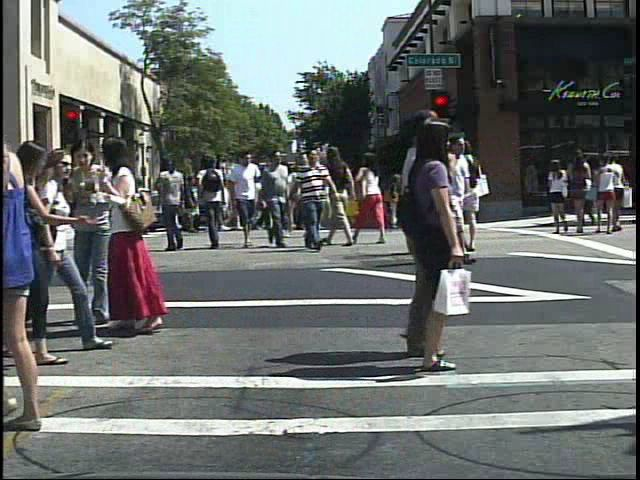person: (363, 115, 489, 381), (0, 87, 60, 438), (102, 133, 197, 343), (38, 141, 114, 353), (405, 104, 457, 365), (67, 134, 112, 337), (431, 128, 484, 259), (419, 131, 464, 261), (287, 143, 336, 255), (452, 134, 492, 259), (257, 144, 295, 253), (228, 148, 264, 254), (325, 140, 360, 248), (155, 153, 191, 255), (355, 146, 391, 248), (196, 154, 231, 252), (546, 152, 574, 238), (203, 169, 224, 238), (65, 182, 85, 232)
